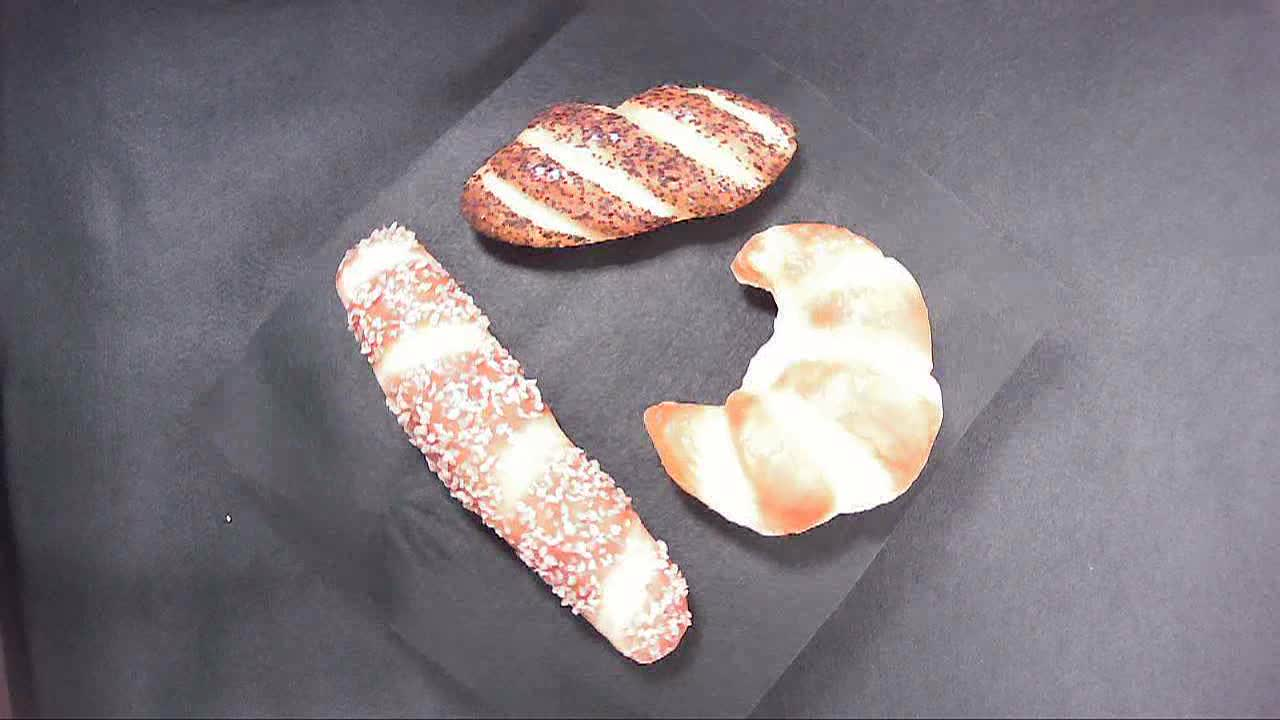cow: (653, 225, 949, 530), (696, 393, 953, 531), (638, 394, 791, 507)
long: (413, 366, 637, 677), (326, 222, 469, 523), (538, 504, 697, 676)
slash: (446, 81, 812, 221), (462, 138, 683, 264)
